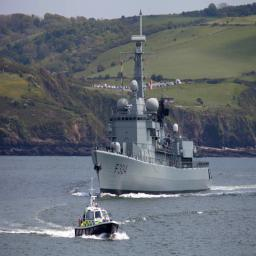Fragata: (89, 11, 214, 198)
